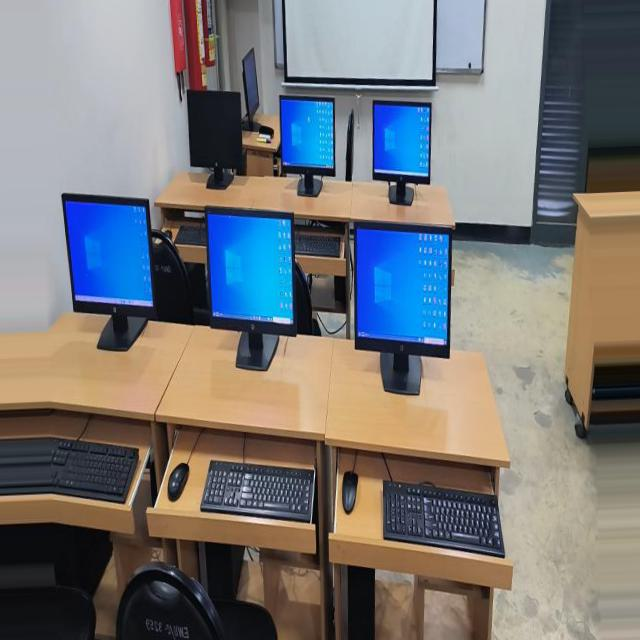Chair: (380, 543, 569, 639), (466, 227, 514, 319), (591, 561, 640, 639), (320, 264, 347, 334), (274, 122, 285, 189)
Cpu: (570, 503, 640, 572), (264, 553, 305, 631), (414, 526, 469, 581)
Fire Extinguisher: (445, 0, 470, 97), (434, 0, 449, 75)
Keyboard: (112, 475, 253, 553), (331, 449, 466, 511), (536, 421, 640, 486), (294, 235, 346, 261), (451, 224, 487, 245)
Monitor: (163, 229, 279, 395), (347, 209, 451, 366), (512, 190, 617, 341), (183, 114, 253, 214), (296, 105, 360, 202), (405, 96, 467, 192), (384, 59, 405, 137)
Mouse: (478, 450, 503, 486), (281, 465, 300, 505), (490, 228, 499, 239)
